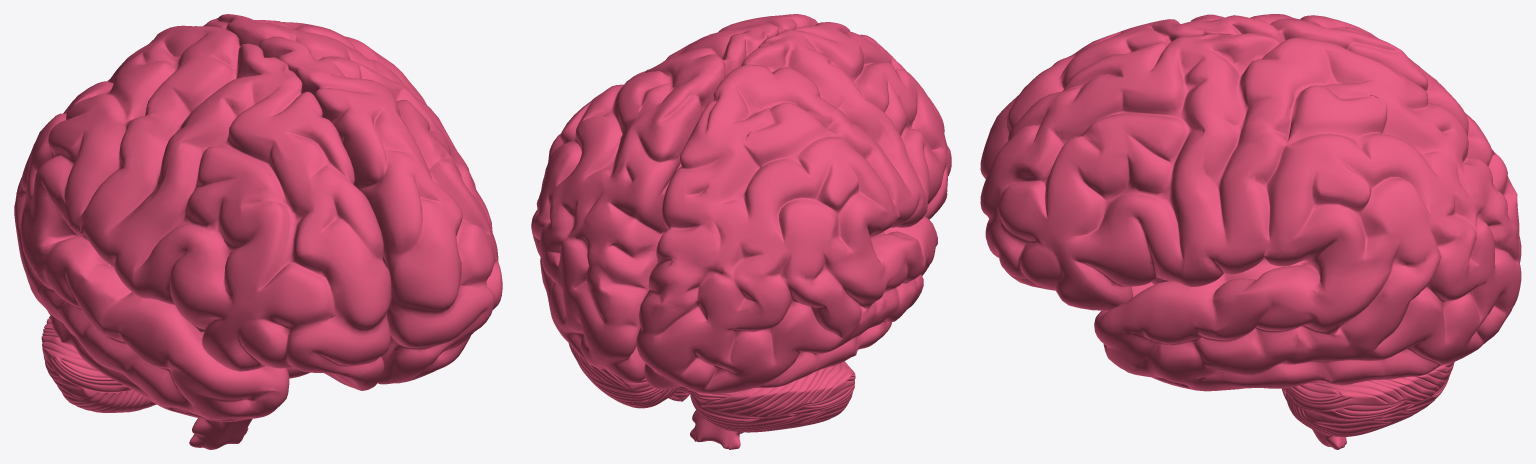
File: brain 1.fbx
3 renders of one model, left to right at view 1: azimuth 30°, elevation 25°; view 2: azimuth 150°, elevation 25°; view 3: azimuth 270°, elevation 25°, orthographic. The views are drawn at different scales.
Parts seen in each view (by area): view 1: brain; view 2: brain; view 3: brain.
Part boxes in pixels (box(x1,y1,x2,y2)): brain: box(14, 14, 502, 449); brain: box(531, 14, 951, 449); brain: box(980, 14, 1521, 449).
Bounding box in the file's own units: 437 × 461 × 544.
